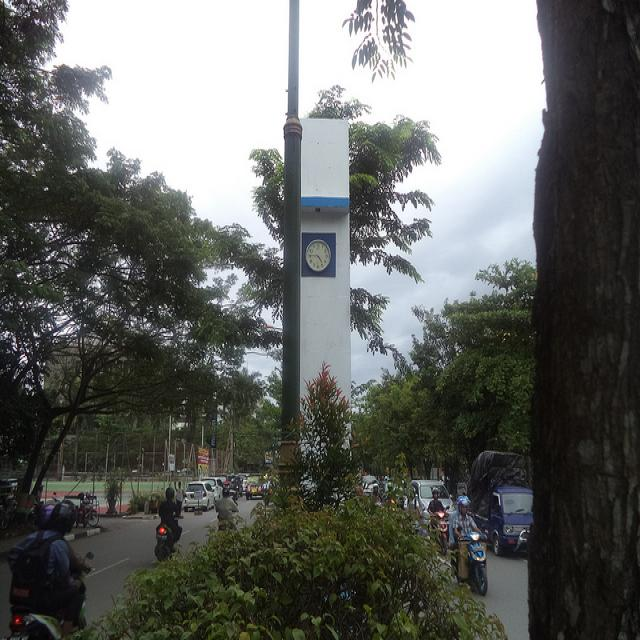motor: (7, 550, 96, 640), (461, 531, 491, 596), (154, 516, 185, 562), (430, 504, 449, 554), (218, 516, 244, 531)
